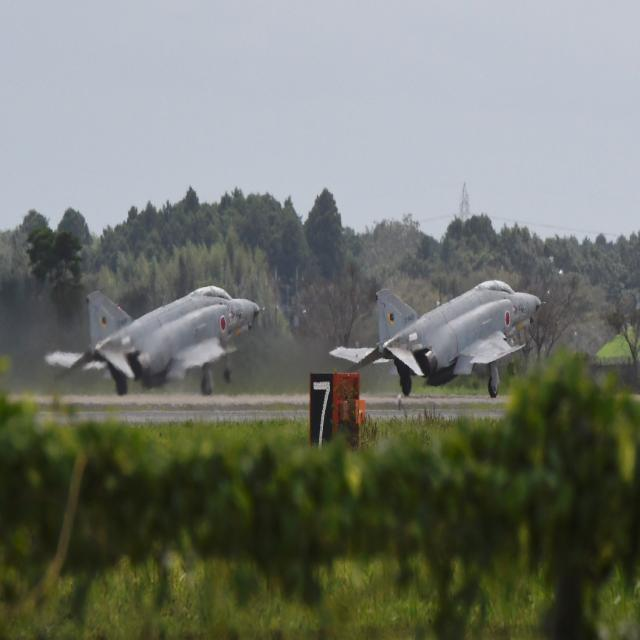MIL_Plane: (44, 285, 266, 395), (329, 290, 547, 387)
